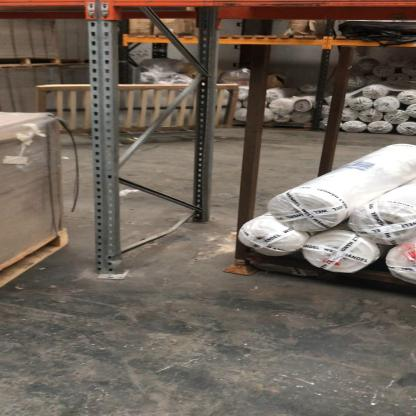vertical_damage: (88, 241, 144, 284)
